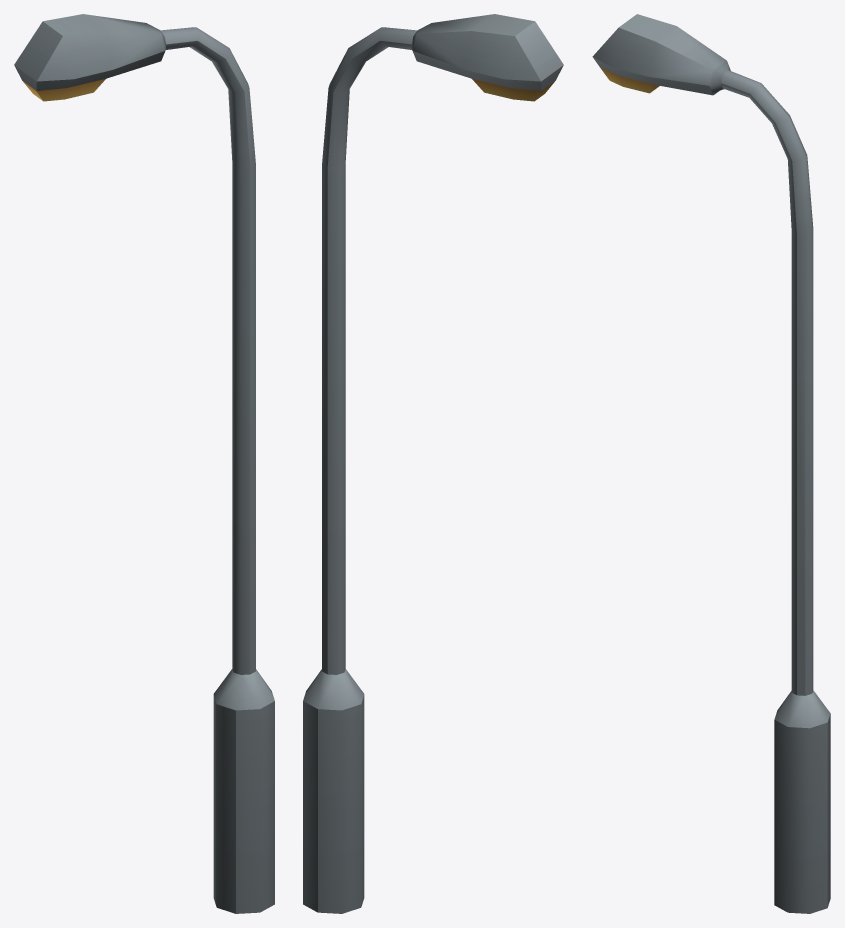
The model's file is Streetlight-transformed.glb.
3 views of the same model, side by side, from view 1: azimuth 30°, elevation 25°; view 2: azimuth 150°, elevation 25°; view 3: azimuth 330°, elevation 25° (orthographic). The views are drawn at different scales.
Visible parts, largest first — view 1: streetlight; view 2: streetlight; view 3: streetlight.
Boxes of the visible parts, x1,y1,x2,y2 form: streetlight: [14, 14, 274, 913]; streetlight: [303, 14, 563, 913]; streetlight: [592, 14, 830, 913].
Bounding box in the file's own units: 0.2693 × 0.9599 × 0.069.
Materials: 1 (1 with a texture image).
